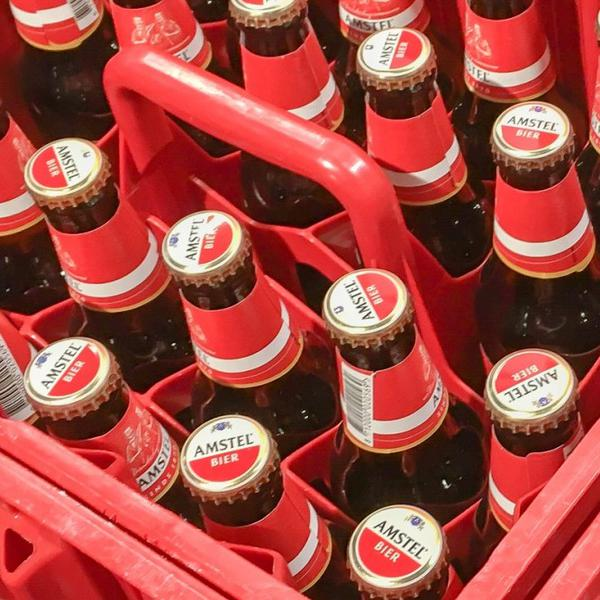amstel: (177, 412, 275, 500), (347, 505, 442, 592), (23, 336, 114, 413), (160, 209, 248, 285), (321, 265, 408, 341), (489, 350, 579, 423), (350, 23, 441, 91), (22, 135, 105, 206), (491, 96, 574, 166)
